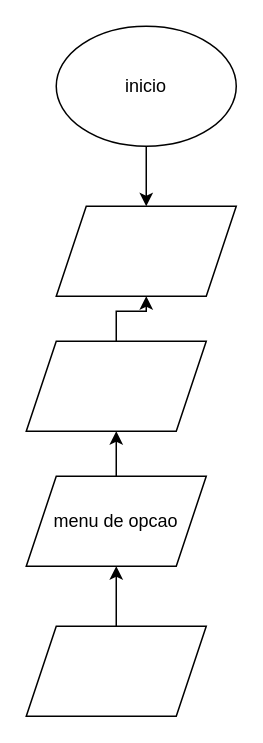
The diagram is 263 pixels wide and 743 high, and some of its shapes have lost their labels. Each missing label, with the centre of its shape:
lista função: (x=145, y=250)
print "adiciona membro": (x=115, y=385)
